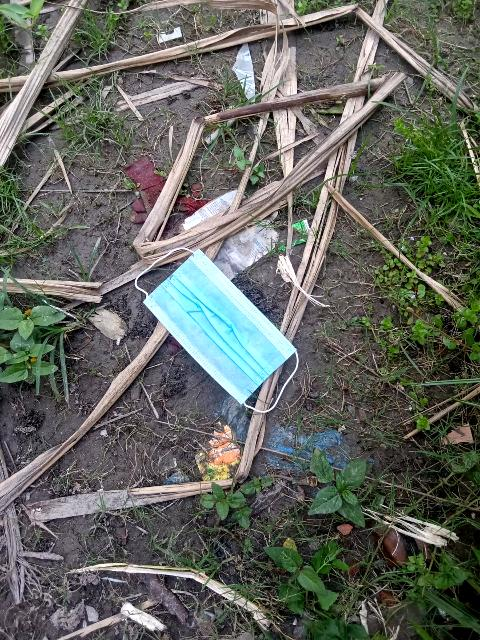mask: (136, 232, 321, 419)
